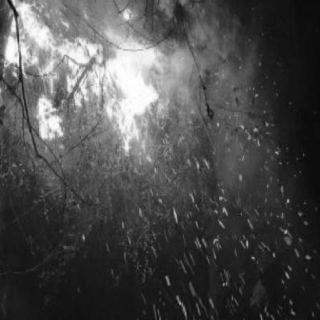Fire: (7, 4, 166, 164)
